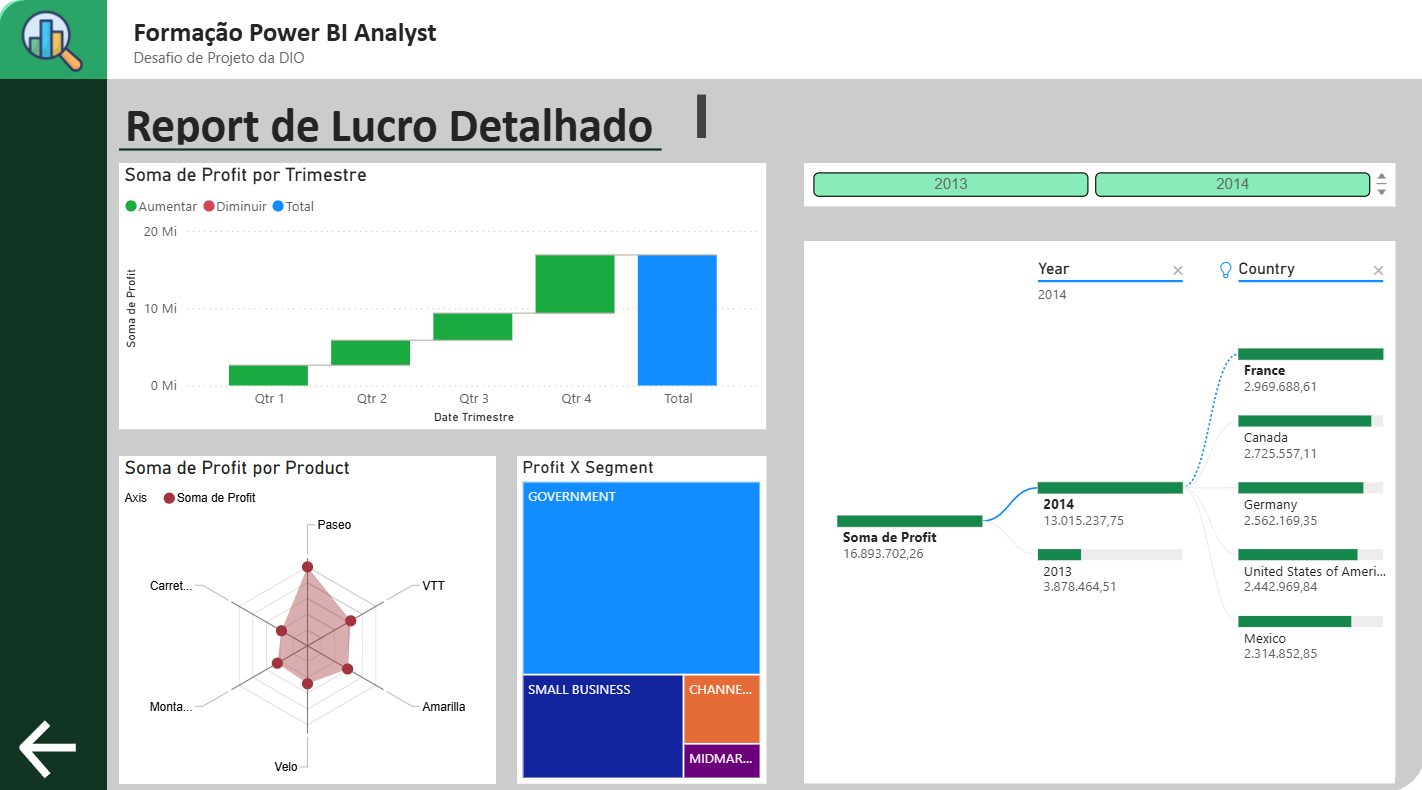

Layout of this report page (visuals, bound fields, positions):
{"tool":"powerbi","page":{"name":"Página 2","canvas":[1280,720],"ordinal":1},"visuals":[{"type":"textbox","box":[107.9,88.9,532.2,54.8],"z":0,"group":"g1"},{"type":"shape","box":[7.8,9.7,1272.2,710],"z":0},{"type":"shape","box":[0,9,97,710.1],"z":1000},{"type":"shape","box":[108,131.2,487.5,24.2],"z":1000,"group":"g1"},{"type":"shape","box":[0,9,97,70.9],"z":2000},{"type":"image","title":"Logo_Data","box":[14.6,12.6,67.1,67.1],"z":3000},{"type":"actionButton","box":[14.4,650.9,73.6,61.9],"z":4000},{"type":"shape","box":[97.3,9.7,1182.7,70],"z":5000},{"type":"textbox","box":[115.7,17.5,762.6,57.4],"z":6000},{"type":"group","id":"g1","title":"Title report","box":[107.9,88.9,532.2,66.5],"z":7000},{"type":"shape","box":[722.7,225.3,530.6,487.5],"z":8000},{"type":"shape","box":[722.7,155.3,530.6,38.6],"z":9000},{"type":"shape","box":[107.7,155.3,532.4,238.8],"z":10000},{"type":"shape","box":[107.7,418.4,338.5,294.5],"z":11000},{"type":"shape","box":[465,418.4,223.5,294.5],"z":12000},{"type":"decompositionTreeVisual","fields":{"Analyze":["Sum(financials.Profit)"],"ExplainBy":["financials.Year","financials.Country"]},"box":[722.7,225.3,530.6,481.2],"z":13000},{"type":"RadarChart1446119667547","fields":{"Y":["Sum(financials.Profit)"],"Category":["financials.Product"]},"box":[107.7,418.4,338.5,294.5],"z":14000},{"type":"ChicletSlicer1448559807354","fields":{"Category":["financials.Year"]},"box":[722.7,155.3,530.6,38.6],"z":14001},{"type":"treemap","title":"Profit X Segment","fields":{"Values":["Sum(financials.Profit)"],"Group":["financials.Segment"]},"box":[465,418.4,223.5,294.5],"z":14002},{"type":"waterfallChart","fields":{"Y":["Sum(financials.Profit)"],"Category":["financials.Date.Variation.Hierarquia de datas.Trimestre"]},"box":[107.7,155.3,580.8,238.8],"z":14003}]}

Visuals, with their boxes on the page's 1280x720 design canvas (x1, y1, x2, y2). These are canvas units, not pixel positions in the 1422x790 screenshot, which may show the page scaled, cropped or inside an application window:
textbox: [x1=108, y1=89, x2=640, y2=144]
shape: [x1=8, y1=10, x2=1280, y2=720]
shape: [x1=0, y1=9, x2=97, y2=719]
shape: [x1=108, y1=131, x2=596, y2=155]
shape: [x1=0, y1=9, x2=97, y2=80]
"Logo_Data" image: [x1=15, y1=13, x2=82, y2=80]
actionButton: [x1=14, y1=651, x2=88, y2=713]
shape: [x1=97, y1=10, x2=1280, y2=80]
textbox: [x1=116, y1=18, x2=878, y2=75]
"Title report" group: [x1=108, y1=89, x2=640, y2=155]
shape: [x1=723, y1=225, x2=1253, y2=713]
shape: [x1=723, y1=155, x2=1253, y2=194]
shape: [x1=108, y1=155, x2=640, y2=394]
shape: [x1=108, y1=418, x2=446, y2=713]
shape: [x1=465, y1=418, x2=688, y2=713]
decompositionTreeVisual - Sum(financials.Profit) x financials.Year: [x1=723, y1=225, x2=1253, y2=706]
RadarChart1446119667547 - Sum(financials.Profit) x financials.Product: [x1=108, y1=418, x2=446, y2=713]
ChicletSlicer1448559807354 - financials.Year: [x1=723, y1=155, x2=1253, y2=194]
"Profit X Segment" treemap: [x1=465, y1=418, x2=688, y2=713]
waterfallChart - Sum(financials.Profit) x financials.Date.Variation.Hierarquia de datas.Trimestre: [x1=108, y1=155, x2=688, y2=394]
